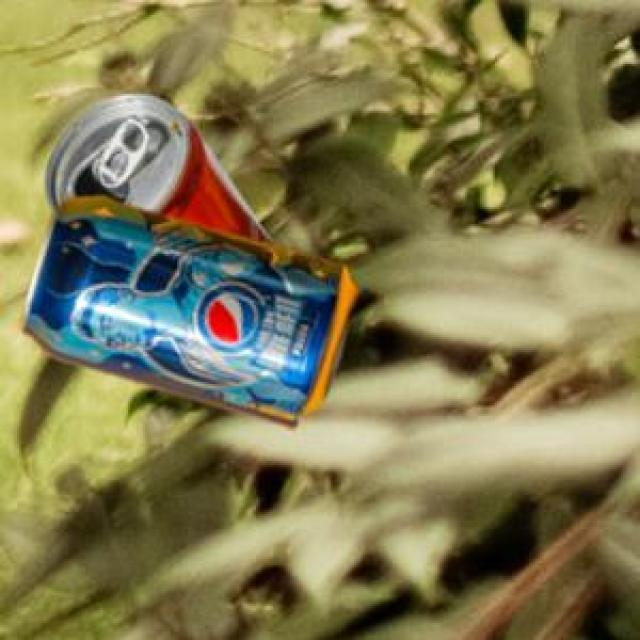Can: (18, 193, 353, 423), (42, 91, 269, 242)
